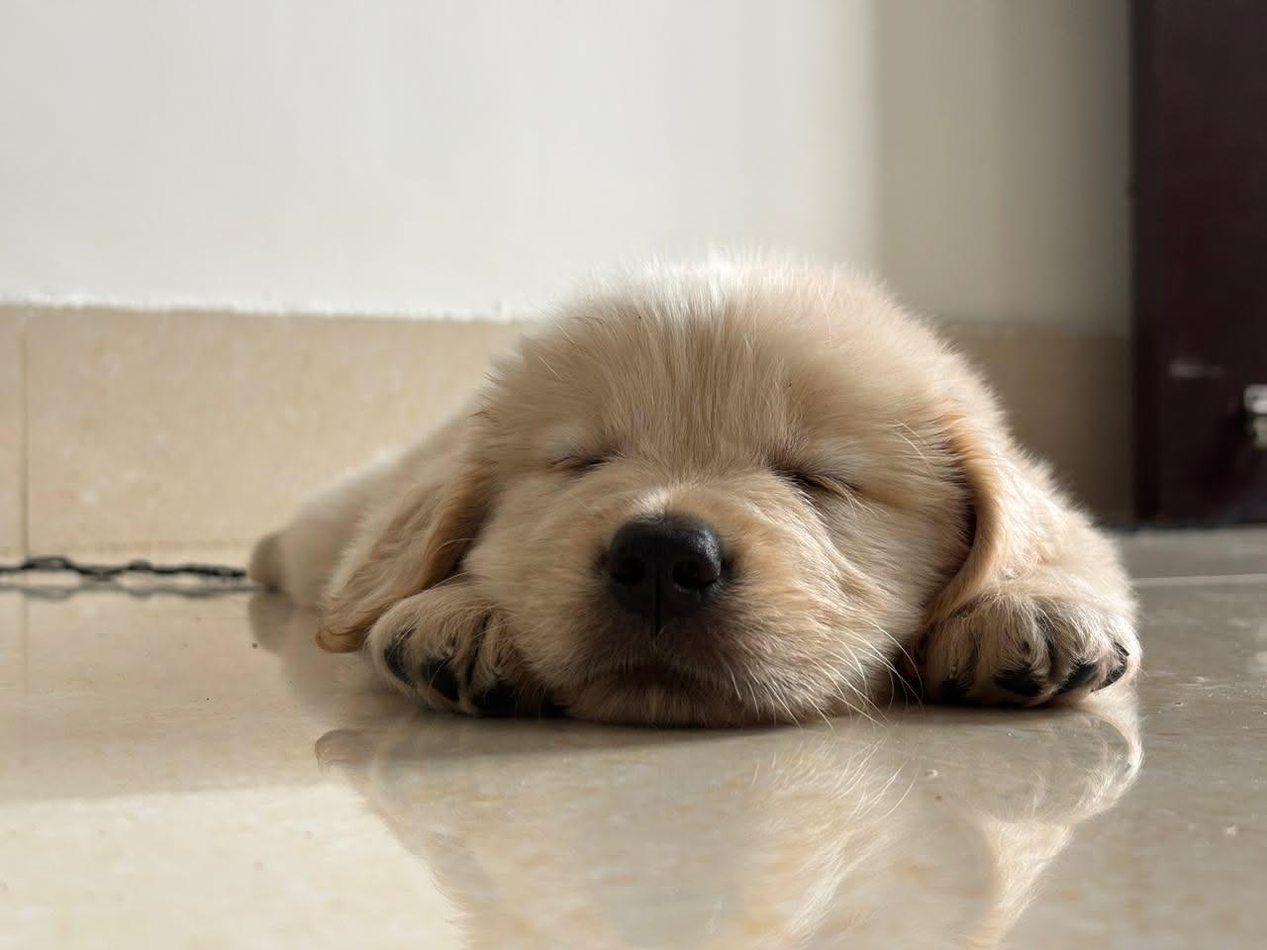puppy-dog: (247, 242, 1145, 731)
